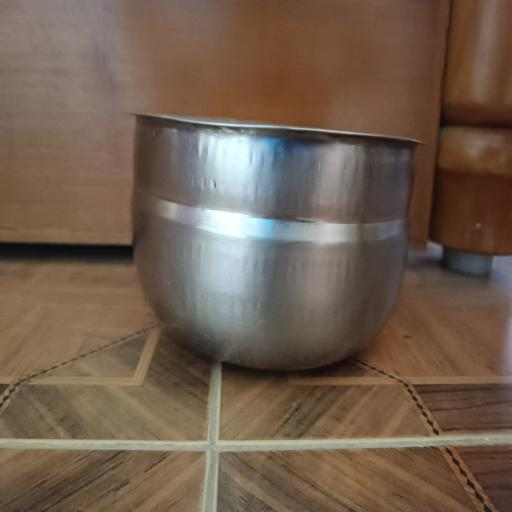vessel: (132, 114, 418, 370)
